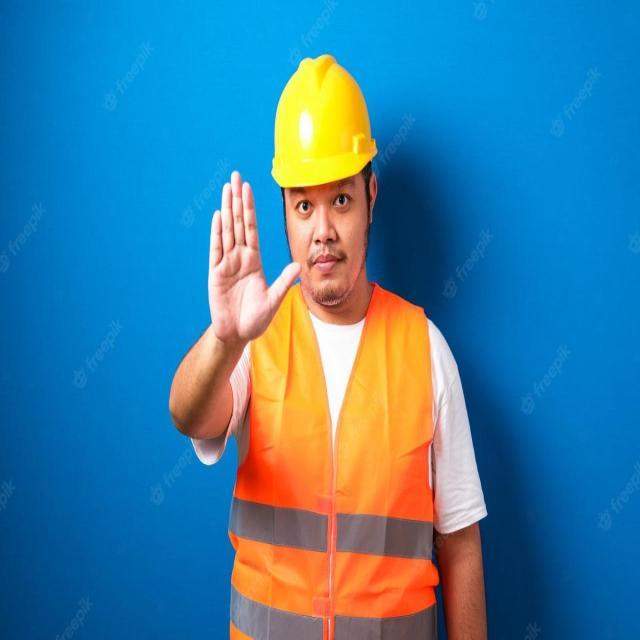Helmet: (251, 34, 385, 210)
Safety Vest: (223, 250, 456, 640)
